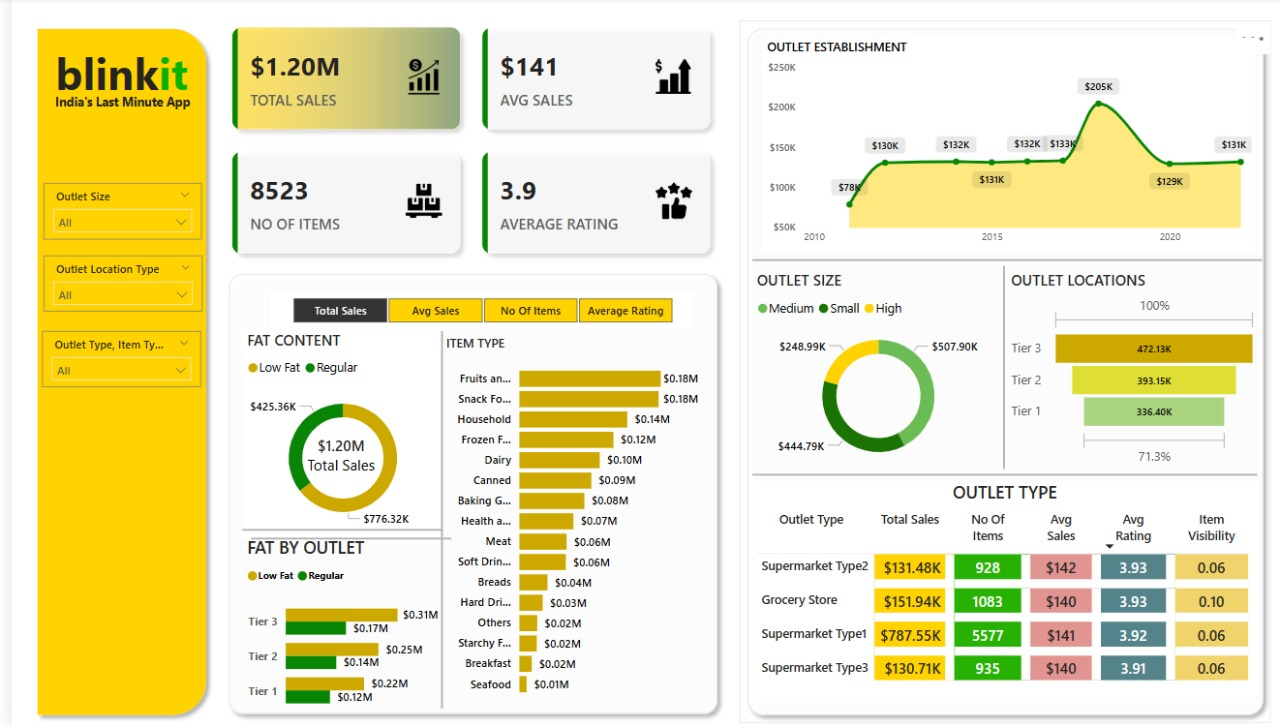

The dashboard page shown, as its layout file describes it:
{"tool":"powerbi","page":{"name":"Page 1","canvas":[1400,800],"ordinal":0},"visuals":[{"type":"shape","box":[19.4,24.7,203.2,770.6],"z":0},{"type":"textbox","box":[35.3,44.2,171.4,84.8],"z":1000},{"type":"textbox","box":[35.3,100.7,173.2,28.3],"z":2000},{"type":"cardVisual","fields":{"Data":["BlinkIT Grocery Data.Total Sales","BlinkIT Grocery Data.Avg Sales","BlinkIT Grocery Data.No Of Items","BlinkIT Grocery Data.Average Rating"]},"box":[224.5,15.9,558.5,282.8],"z":3000},{"type":"shape","box":[229.8,295.1,553.2,500.2],"z":4000},{"type":"donutChart","title":"FAT CONTENT","fields":{"Y":["BlinkIT Grocery Data.Total Sales"],"Category":["BlinkIT Grocery Data.Item Fat Content"]},"box":[252.7,364.1,219.2,229.8],"z":5000},{"type":"slicer","fields":{"Values":["Matrices.Matrices"]},"box":[282.8,323.4,464.8,40.6],"z":6000},{"type":"cardVisual","fields":{"Data":["BlinkIT Grocery Data.Total Sales"]},"box":[305.8,463,111.3,67.2],"z":7000},{"type":"clusteredBarChart","title":"FAT BY OUTLET","fields":{"Y":["BlinkIT Grocery Data.Total Sales"],"Category":["BlinkIT Grocery Data.Outlet Location Type"],"Series":["BlinkIT Grocery Data.Item Fat Content"]},"box":[252.7,590.3,219.2,205],"z":8000},{"type":"shape","box":[252.7,577.9,219.2,12.4],"z":9000},{"type":"shape","box":[450.7,365.8,42.4,413.6],"z":10000},{"type":"barChart","title":"ITEM TYPE","fields":{"Y":["BlinkIT Grocery Data.Total Sales"],"Category":["BlinkIT Grocery Data.Item Type"]},"box":[471.9,369.4,286.3,406.5],"z":11000},{"type":"shape","box":[797.1,24.7,583.2,770.6],"z":12000},{"type":"lineChart","title":"OUTLET ESTABLISHMENT","fields":{"Y":["BlinkIT Grocery Data.Total Sales"],"Category":["BlinkIT Grocery Data.Outlet Establishment Year"]},"box":[823.6,44.2,540.8,235.1],"z":13000},{"type":"shape","box":[811.2,279.2,558.5,19.4],"z":14000},{"type":"donutChart","title":"OUTLET SIZE","fields":{"Y":["BlinkIT Grocery Data.Total Sales"],"Category":["BlinkIT Grocery Data.Outlet Size"]},"box":[811.2,298.7,275.7,224.5],"z":15000},{"type":"shape","box":[1065.7,295.1,42.4,222.7],"z":16000},{"type":"funnel","title":"OUTLET LOCATIONS","fields":{"Y":["Sum(BlinkIT Grocery Data.Sales)"],"Category":["BlinkIT Grocery Data.Outlet Location Type"]},"box":[1090.5,298.7,279.2,219.2],"z":17000},{"type":"shape","box":[811.2,517.8,553.2,12.4],"z":18000},{"type":"pivotTable","title":"OUTLET TYPE","fields":{"Rows":["BlinkIT Grocery Data.Outlet Type"],"Values":["BlinkIT Grocery Data.Total Sales","BlinkIT Grocery Data.No Of Items","BlinkIT Grocery Data.Avg Sales","BlinkIT Grocery Data.Average Rating","Avg(BlinkIT Grocery Data.Item Visibility)"]},"box":[811.2,530.2,553.2,245.7],"z":19000},{"type":"slicer","fields":{"Values":["BlinkIT Grocery Data.Outlet Location Type"]},"box":[34.8,283.2,173.9,61.3],"z":20000},{"type":"shape","box":[262.7,587.9,219.2,12.4],"z":21000},{"type":"slicer","fields":{"Values":["BlinkIT Grocery Data.Outlet Size"]},"box":[35.3,203.2,173.2,61.9],"z":22000},{"type":"slicer","fields":{"Values":["BlinkIT Grocery Data.Outlet Type","BlinkIT Grocery Data.Item Type"]},"box":[33.1,366,173.9,61.3],"z":23000}]}

Visuals, with their boxes in screenshot pixels (x1, y1, x2, y2), scaled from the page's 1400x800 canvas onto the 1280x727 screenshot:
shape: [x1=18, y1=22, x2=204, y2=723]
textbox: [x1=32, y1=40, x2=189, y2=117]
textbox: [x1=32, y1=92, x2=191, y2=117]
cardVisual - BlinkIT Grocery Data.Total Sales x BlinkIT Grocery Data.Avg Sales: [x1=205, y1=14, x2=716, y2=271]
shape: [x1=210, y1=268, x2=716, y2=723]
"FAT CONTENT" donutChart: [x1=231, y1=331, x2=431, y2=540]
slicer - Matrices.Matrices: [x1=259, y1=294, x2=684, y2=331]
cardVisual - BlinkIT Grocery Data.Total Sales: [x1=280, y1=421, x2=381, y2=482]
"FAT BY OUTLET" clusteredBarChart: [x1=231, y1=536, x2=431, y2=723]
shape: [x1=231, y1=525, x2=431, y2=536]
shape: [x1=412, y1=332, x2=451, y2=708]
"ITEM TYPE" barChart: [x1=431, y1=336, x2=693, y2=705]
shape: [x1=729, y1=22, x2=1262, y2=723]
"OUTLET ESTABLISHMENT" lineChart: [x1=753, y1=40, x2=1247, y2=254]
shape: [x1=742, y1=254, x2=1252, y2=271]
"OUTLET SIZE" donutChart: [x1=742, y1=271, x2=994, y2=475]
shape: [x1=974, y1=268, x2=1013, y2=471]
"OUTLET LOCATIONS" funnel: [x1=997, y1=271, x2=1252, y2=471]
shape: [x1=742, y1=471, x2=1247, y2=482]
"OUTLET TYPE" pivotTable: [x1=742, y1=482, x2=1247, y2=705]
slicer - BlinkIT Grocery Data.Outlet Location Type: [x1=32, y1=257, x2=191, y2=313]
shape: [x1=240, y1=534, x2=441, y2=546]
slicer - BlinkIT Grocery Data.Outlet Size: [x1=32, y1=185, x2=191, y2=241]
slicer - BlinkIT Grocery Data.Outlet Type x BlinkIT Grocery Data.Item Type: [x1=30, y1=333, x2=189, y2=388]
